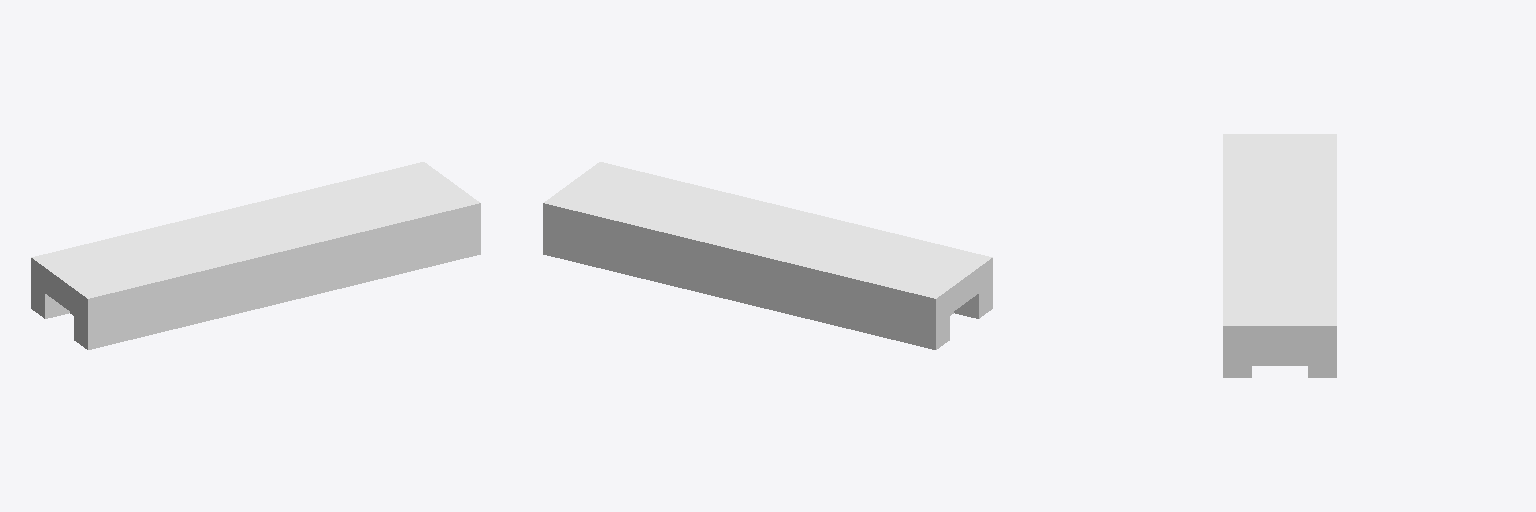
File: log2.obj
3 renders of one model, left to right at view 1: azimuth 30°, elevation 25°; view 2: azimuth 150°, elevation 25°; view 3: azimuth 270°, elevation 25°, orthographic.
Visible parts, largest first — view 1: object 1; view 2: object 1; view 3: object 1.
Part boxes in pixels (left/top/right/bottom): object 1: left=31, top=162, right=480, bottom=349; object 1: left=543, top=162, right=992, bottom=349; object 1: left=1223, top=134, right=1336, bottom=377.
Bounding box in the file's own units: 1.6 × 0.2 × 0.4.